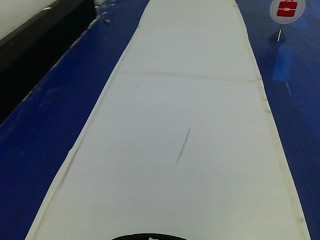company: (267, 0, 305, 24)
